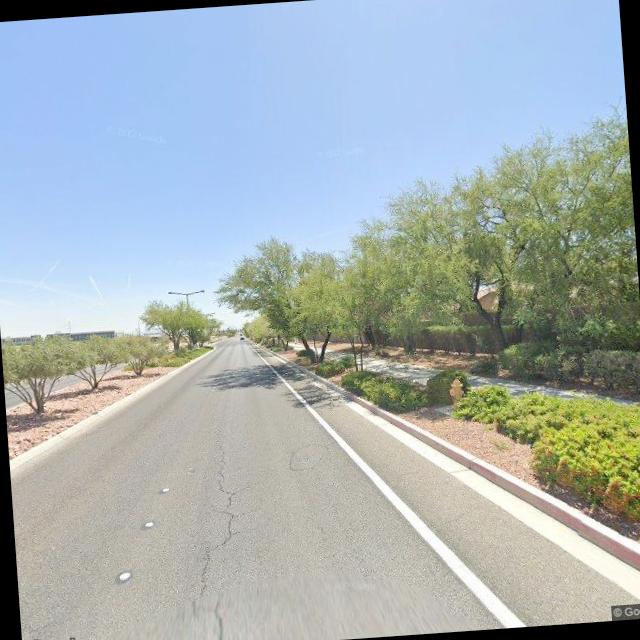pothole: (184, 443, 258, 640)
